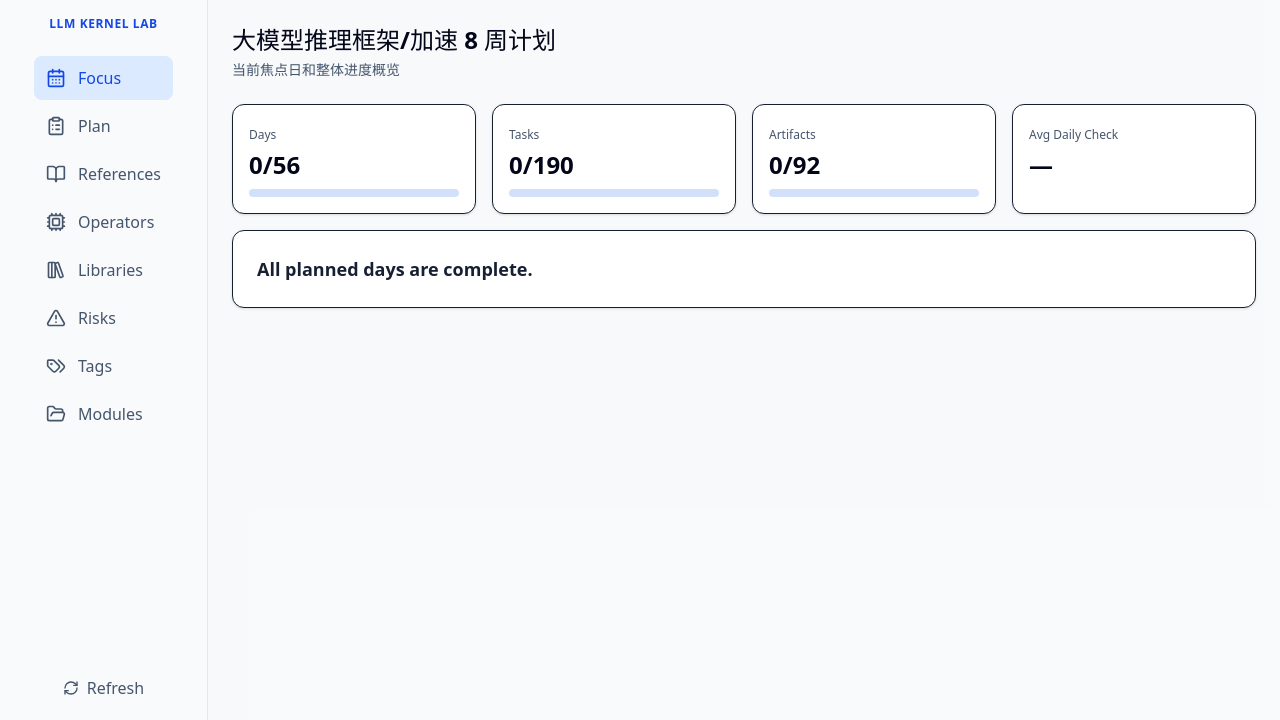
Scenario: refresh can load new dashboard data
This screenshot has width=1280, height=720.
Expected: the heading "大模型推理框架/加速 8 周计划" is shown, [232,23,556,56]
What coordinates should you click on to do the following:
click the button with aria-label "Refresh data"
I would click on:
 (104, 688)
Its box is [51,672,156,704].
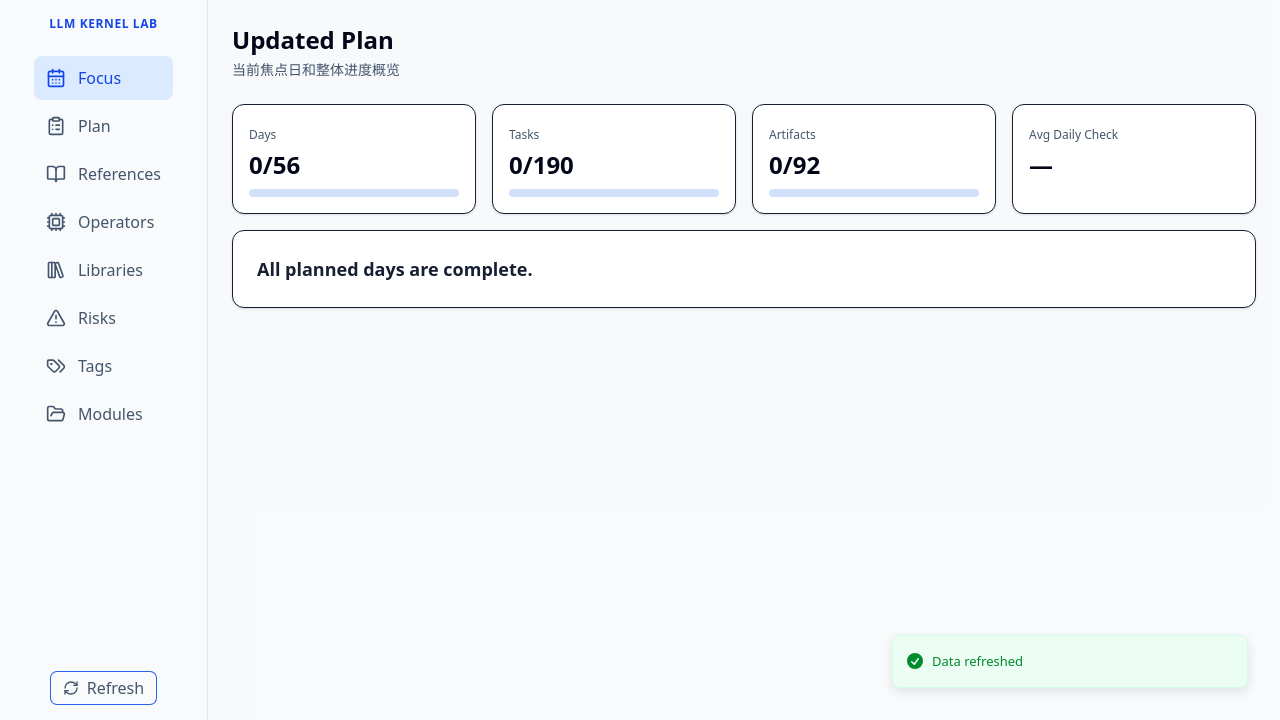
Expected: the heading "Updated Plan" is shown, [232,23,394,56]
